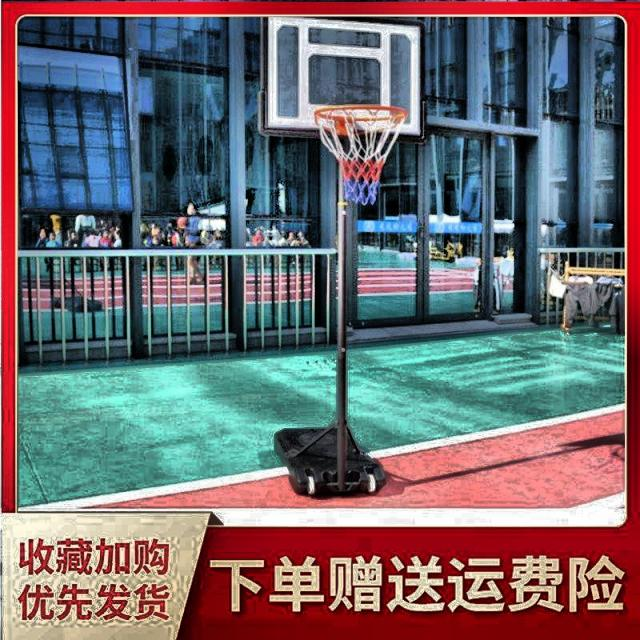rim: (312, 102, 406, 205)
